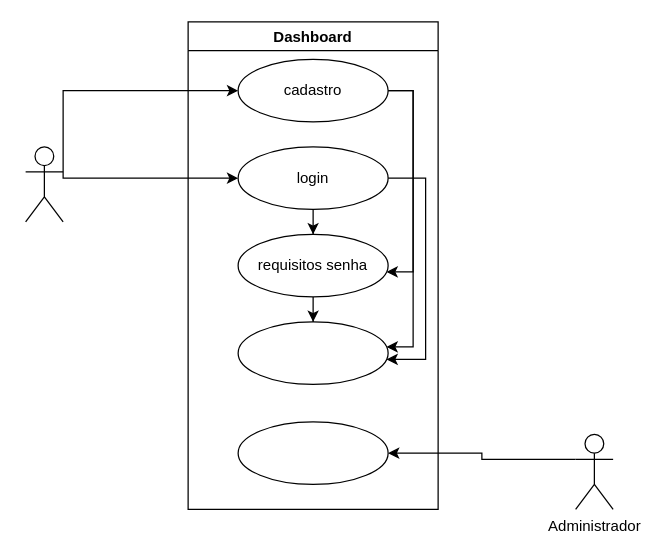
Some shapes in this 663 by 558 pixel diagram are drawn without their labels. Here are the shapes that lost their labels. From the top down, the centre of each, then its label:
(43,184): Cliente
(312,352): requisitos email
(312,452): manter dados seguros
